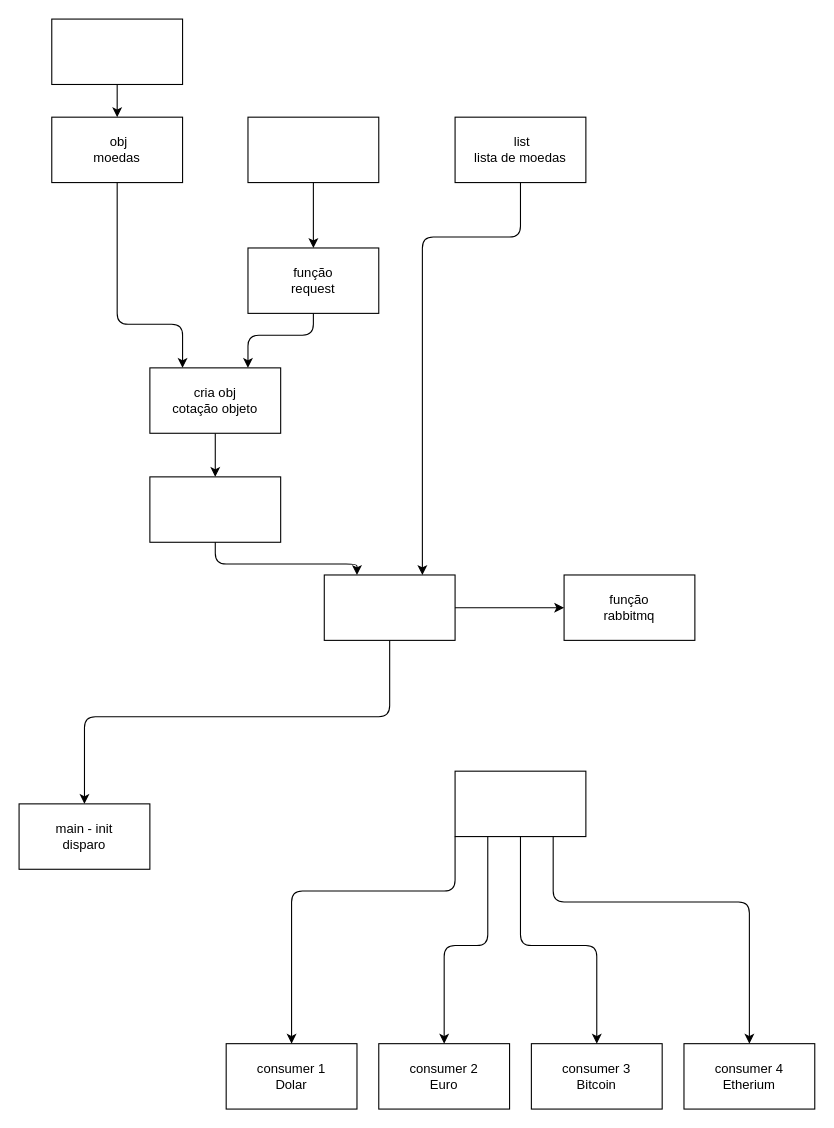
Image size: 834x1128. Some labels were removed from this diagram. The centre of each missing label's shape, as x and y in pixels:
"acesa objeto e gera texto //// gerador mensagem" goes at (215,509).
"app rabbitmq" goes at (520,803).
"função manda para fila" goes at (389,607).
"obj Cotação moeda" goes at (117,51).
"string link moeda" goes at (313,149).
